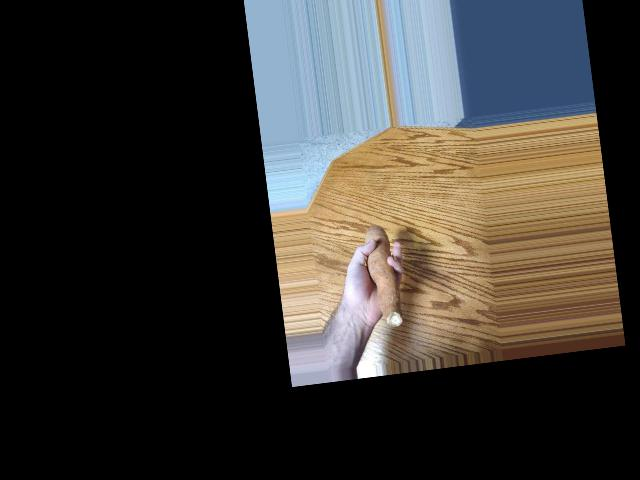sweet_potato: (368, 217, 407, 332)
